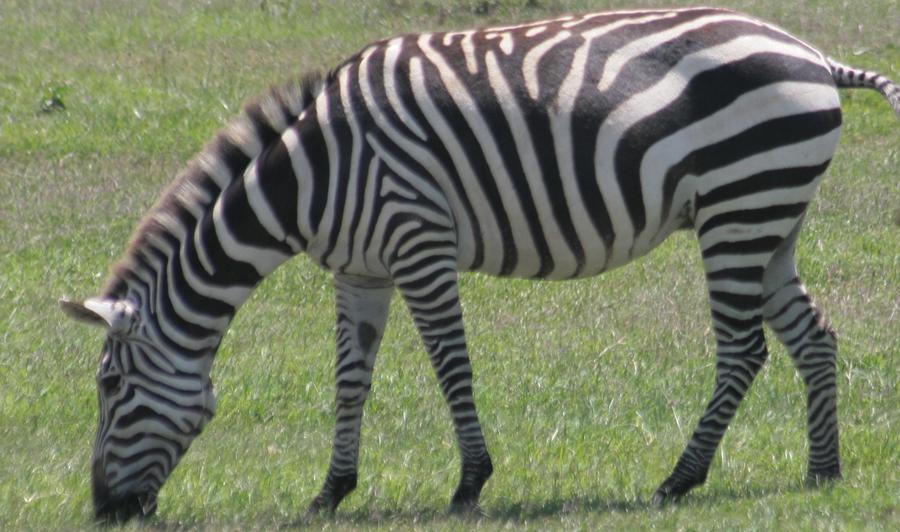zebra_plains: (308, 4, 831, 281)
